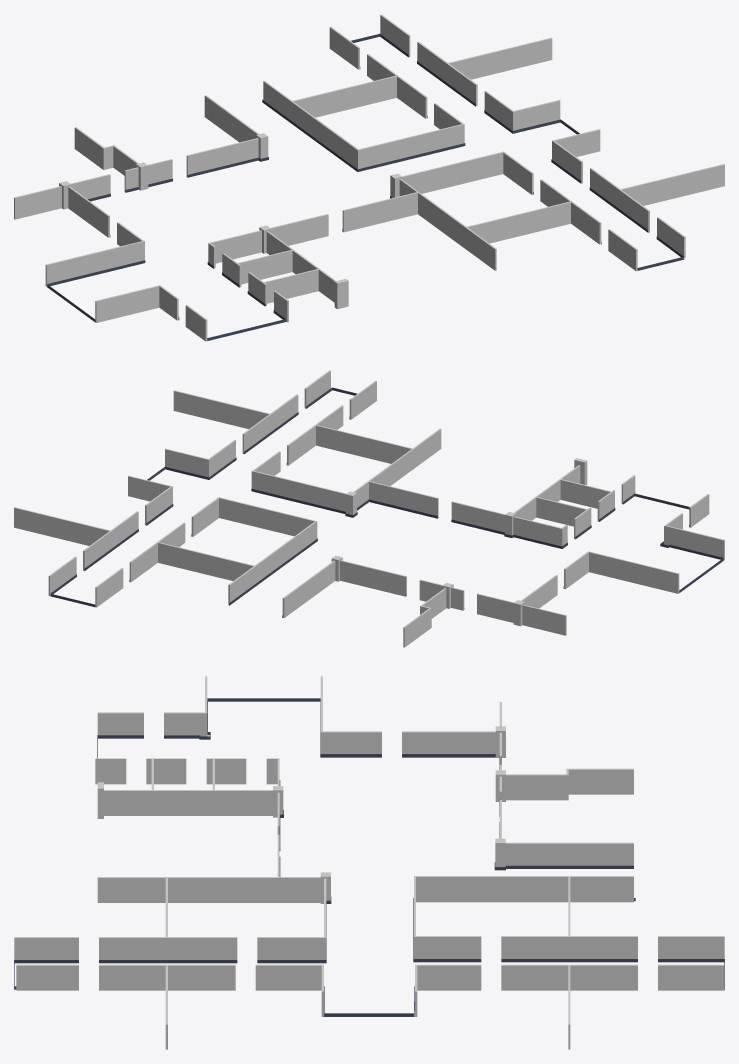
The model's file is In_Wall.fbx.
3 views of the same model, one above another, from view 1: azimuth 30°, elevation 25°; view 2: azimuth 150°, elevation 25°; view 3: azimuth 270°, elevation 25° (orthographic). The views are drawn at different scales.
Visible parts, largest first — view 1: wall.009, wall.008, wall.007, wall, mold, wall.011, wall.004, wall.001, wall.010, wall.003, wall.014, wall.015 (+5 smaller); view 2: wall.009, wall.008, wall, wall.007, mold, wall.001, wall.010, wall.004, wall.011, wall.002, wall.013, wall.014 (+5 smaller); view 3: wall.009, wall.004, wall.008, wall.011, wall.010, wall, mold, wall.007, wall.001, wall.003.
Part boxes in pixels (box(x1,y1,x2,y2)): wall.009: box(263, 27, 464, 168); wall.008: box(399, 151, 637, 271); wall.007: box(271, 191, 496, 270); wall: box(74, 95, 259, 184); mold: box(46, 33, 684, 340); wall.011: box(380, 14, 560, 130); wall.004: box(208, 230, 335, 322); wall.001: box(45, 186, 144, 286); wall.010: box(552, 129, 685, 258); wall.003: box(95, 285, 207, 341); wall.014: box(448, 37, 552, 79); wall.015: box(293, 75, 396, 117); wall.009: box(95, 497, 317, 607); wall.008: box(251, 380, 376, 511); wall: box(282, 560, 446, 647); wall.007: box(368, 428, 504, 532); mold: box(50, 387, 723, 617); wall.001: box(521, 551, 679, 608); wall.010: box(165, 370, 330, 477); wall.004: box(513, 465, 635, 546); wall.011: box(48, 475, 172, 595); wall.002: box(451, 587, 566, 635); wall.013: box(173, 390, 269, 428); wall.014: box(14, 507, 110, 545); wall.009: box(414, 876, 724, 958); wall.004: box(95, 758, 279, 815); wall.008: box(14, 877, 326, 959); wall.011: box(415, 964, 724, 1016); wall.010: box(16, 964, 323, 1016); wall: box(499, 768, 633, 865); mold: box(14, 698, 724, 1016); wall.007: box(97, 792, 279, 902); wall.001: box(320, 676, 495, 753); wall.003: box(97, 676, 207, 736).
Size of the model in its own units: 7432 by 6411 by 300.
